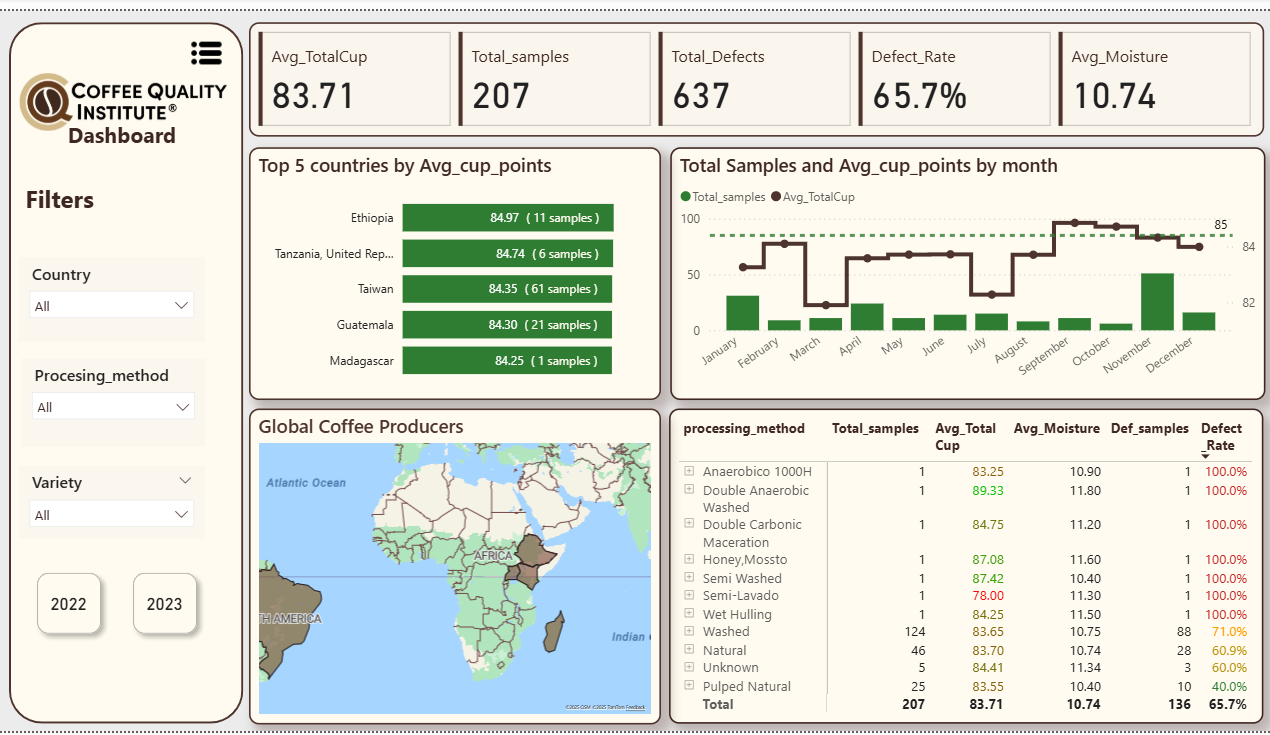

This screenshot's page, from the dashboard's own definition file:
{"tool":"powerbi","page":{"name":"Executive summary","canvas":[1280,720],"ordinal":0},"visuals":[{"type":"cardVisual","fields":{"Data":["All_measures.Avg_TotalCup","All_measures.Total_samples","All_measures.Total_Defects","All_measures.Defect_Rate","All_measures.Avg_Moisture"]},"box":[250.2,11.6,1015.1,114.2],"z":0},{"type":"lineStackedColumnComboChart","fields":{"Category":["DimDate.Date.Variation.Date Hierarchy.Month"],"Y":["All_measures.Total_samples"],"Y2":["All_measures.Avg_TotalCup"]},"box":[671,135.8,595.5,252.5],"z":1000},{"type":"clusteredBarChart","title":"Top 5 countries by Avg_cup_points","fields":{"Category":["dim_country.country_of_origin"],"Y":["All_measures.Avg_TotalCup"]},"box":[249.7,135.8,411.7,252.5],"z":2000},{"type":"pivotTable","fields":{"Rows":["dim_processing_method.processing_method","dim_variety.variety"],"Values":["All_measures.Total_samples","All_measures.Avg_TotalCup","All_measures.Avg_Moisture","All_measures.DefectSamples","All_measures.Defect_Rate"]},"box":[670.3,397.2,594.6,315.3],"z":3000},{"type":"shape","box":[10.1,11.6,234.3,701.3],"z":4000},{"type":"advancedSlicerVisual","fields":{"Values":["DimDate.Date.Variation.Date Hierarchy.Year"]},"box":[20.8,545.4,212.8,89.3],"z":5000},{"type":"slicer","fields":{"Values":["dim_country.country_of_origin"]},"box":[20.6,245.6,185.2,83.7],"z":6000},{"type":"slicer","fields":{"Values":["dim_processing_method.processing_method"]},"box":[22,347.2,183.9,87.8],"z":7000},{"type":"slicer","fields":{"Values":["dim_variety.variety"]},"box":[20.6,455.6,185.2,72.7],"z":8000},{"type":"image","box":[14.5,43.4,218.3,94],"z":9000},{"type":"textbox","box":[63.6,104.1,127.2,41.9],"z":10000},{"type":"textbox","box":[20.8,166.3,137,51.4],"z":11000},{"type":"azureMap","title":"Global Coffee Producers","fields":{"Category":["dim_country.country_of_origin"]},"box":[249.7,397.9,411.7,315.6],"z":12000},{"type":"image","title":"open","box":[188,21.7,40.5,41.9],"z":14000}]}

Visuals, with their boxes in screenshot pixels (x1, y1, x2, y2), scaled from the page's 1280x720 canvas onto the 1270x735 screenshot:
cardVisual - All_measures.Avg_TotalCup x All_measures.Total_samples: (x1=248, y1=12, x2=1255, y2=128)
lineStackedColumnComboChart - DimDate.Date.Variation.Date Hierarchy.Month x All_measures.Total_samples: (x1=666, y1=139, x2=1257, y2=396)
"Top 5 countries by Avg_cup_points" clusteredBarChart: (x1=248, y1=139, x2=656, y2=396)
pivotTable - dim_processing_method.processing_method x dim_variety.variety: (x1=665, y1=405, x2=1255, y2=727)
shape: (x1=10, y1=12, x2=242, y2=728)
advancedSlicerVisual - DimDate.Date.Variation.Date Hierarchy.Year: (x1=21, y1=557, x2=232, y2=648)
slicer - dim_country.country_of_origin: (x1=20, y1=251, x2=204, y2=336)
slicer - dim_processing_method.processing_method: (x1=22, y1=354, x2=204, y2=444)
slicer - dim_variety.variety: (x1=20, y1=465, x2=204, y2=539)
image: (x1=14, y1=44, x2=231, y2=140)
textbox: (x1=63, y1=106, x2=189, y2=149)
textbox: (x1=21, y1=170, x2=157, y2=222)
"Global Coffee Producers" azureMap: (x1=248, y1=406, x2=656, y2=728)
"open" image: (x1=187, y1=22, x2=227, y2=65)
